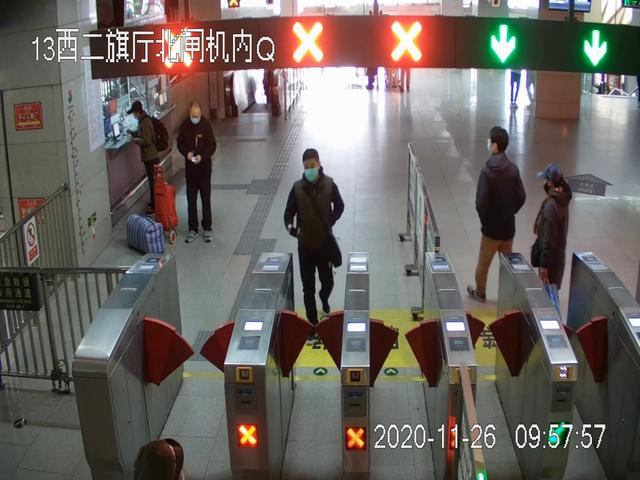person: (284, 149, 346, 345), (467, 126, 527, 301), (534, 163, 572, 320), (177, 102, 214, 243), (128, 100, 169, 211)
